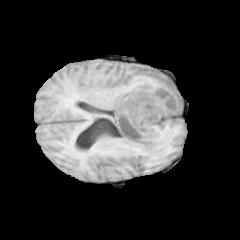glioma: (94, 66, 182, 160)
